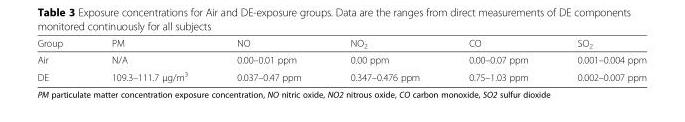table: (36, 37, 646, 82)
table column: (86, 37, 211, 82), (325, 37, 443, 82), (211, 37, 325, 82), (443, 37, 552, 82), (552, 37, 646, 82), (36, 37, 86, 82)
table column header: (36, 37, 646, 51)
table row: (36, 51, 646, 67), (36, 67, 646, 82), (36, 37, 646, 51)
